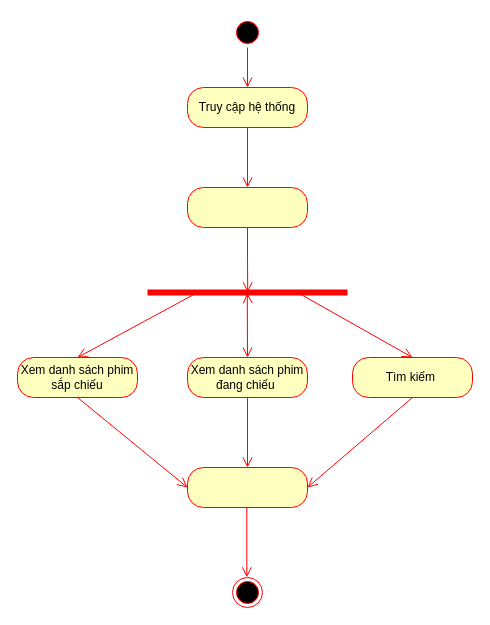
Image size: 490x625. Some labels were removed from this diagram. Here are the shapes that lost their labels. From the top down, the centre of each, then its label:
At pixel 247 207: "Tìm kiếm phim".
At pixel 247 487: "Hiển thị kết quả".
